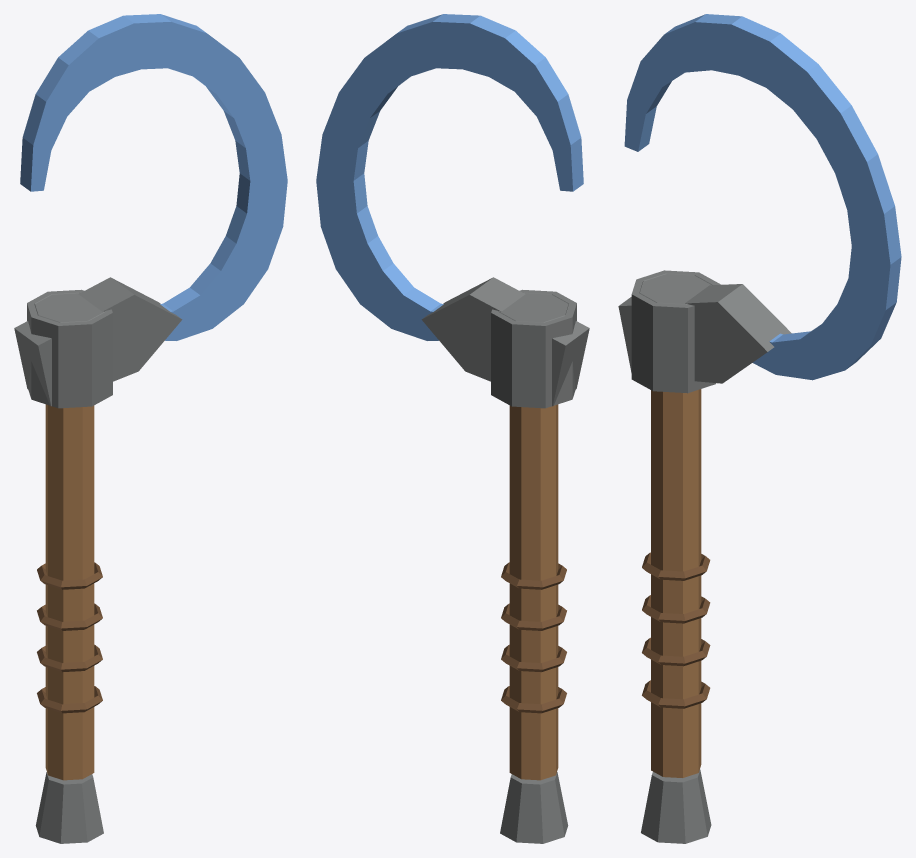
Rendered from t4_sickle.glb.
3 renders of one model, left to right at view 1: azimuth 30°, elevation 25°; view 2: azimuth 150°, elevation 25°; view 3: azimuth 330°, elevation 25°, orthographic. The views are drawn at different scales.
Parts seen in each view (by area): view 1: CurvedBlade, WoodHandle, BladeSocket, BladeBasePlate, BottomPommel, LeatherWrap3, LeatherWrap1, LeatherWrap4, LeatherWrap2; view 2: CurvedBlade, WoodHandle, BladeSocket, BladeBasePlate, BottomPommel, LeatherWrap3, LeatherWrap1, LeatherWrap4, LeatherWrap2; view 3: CurvedBlade, WoodHandle, BladeSocket, BladeBasePlate, BottomPommel, LeatherWrap4, LeatherWrap2, LeatherWrap3, LeatherWrap1.
Part boxes in pixels (left/top/right/bottom): CurvedBlade: left=20, top=14, right=287, bottom=340; WoodHandle: left=45, top=404, right=94, bottom=780; BladeSocket: left=27, top=289, right=112, bottom=408; BladeBasePlate: left=14, top=277, right=182, bottom=406; BottomPommel: left=35, top=772, right=103, bottom=843; LeatherWrap3: left=37, top=603, right=102, bottom=630; LeatherWrap1: left=37, top=686, right=102, bottom=713; LeatherWrap4: left=37, top=562, right=102, bottom=589; LeatherWrap2: left=37, top=644, right=102, bottom=672; CurvedBlade: left=316, top=14, right=583, bottom=340; WoodHandle: left=509, top=404, right=558, bottom=780; BladeSocket: left=491, top=289, right=576, bottom=408; BladeBasePlate: left=421, top=277, right=589, bottom=406; BottomPommel: left=500, top=772, right=568, bottom=843; LeatherWrap3: left=501, top=603, right=566, bottom=630; LeatherWrap1: left=501, top=686, right=566, bottom=713; LeatherWrap4: left=501, top=562, right=566, bottom=589; LeatherWrap2: left=501, top=644, right=566, bottom=672; CurvedBlade: left=624, top=14, right=901, bottom=380; WoodHandle: left=651, top=389, right=701, bottom=777; BladeSocket: left=631, top=270, right=720, bottom=393; BladeBasePlate: left=618, top=284, right=791, bottom=383; BottomPommel: left=641, top=769, right=711, bottom=843; LeatherWrap4: left=642, top=552, right=710, bottom=580; LeatherWrap2: left=642, top=637, right=710, bottom=666; LeatherWrap3: left=642, top=595, right=710, bottom=623; LeatherWrap1: left=642, top=680, right=710, bottom=708.
Size of the model in its own units: 0.5877 by 1.74 by 0.176.
